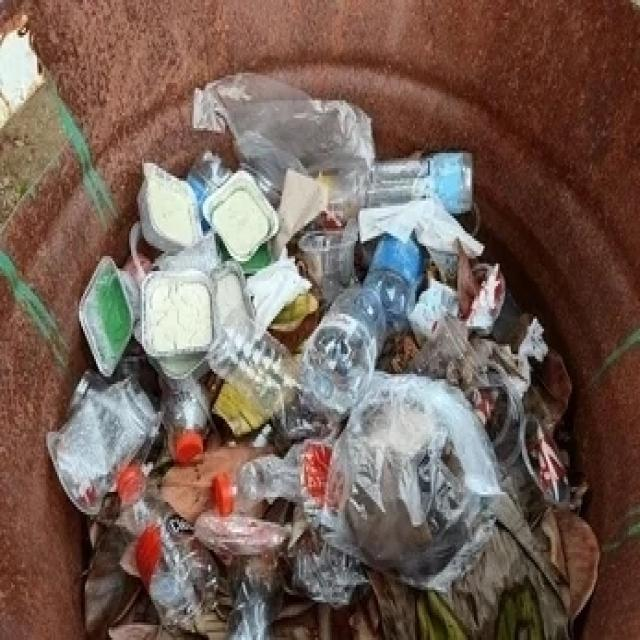Disposable: (46, 379, 159, 515), (494, 415, 570, 527), (202, 170, 279, 262), (79, 257, 135, 377), (140, 270, 214, 359), (138, 163, 202, 252), (410, 316, 484, 389), (299, 219, 359, 304)
Garbage: (48, 73, 600, 640)
Plastic_Bag: (321, 373, 501, 589), (195, 73, 375, 221), (195, 512, 290, 640), (291, 527, 366, 607)
Plastic_bottle: (116, 463, 228, 638), (300, 287, 386, 419), (208, 299, 298, 418), (211, 442, 331, 515), (366, 151, 472, 214), (364, 235, 425, 333), (160, 374, 210, 466)
